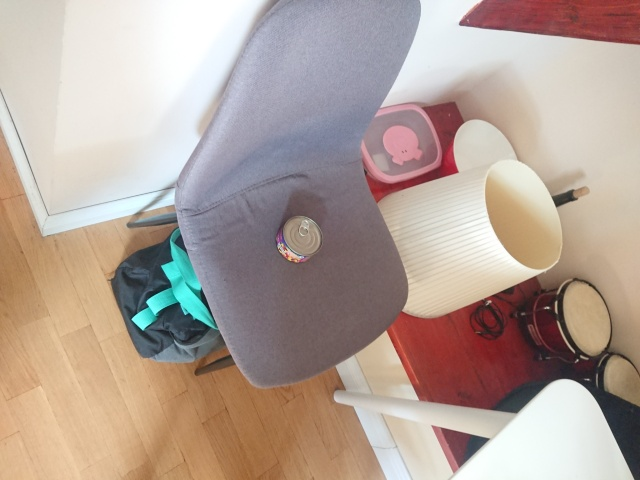Giana Tuna Salad Mexico 185g: (274, 214, 324, 265)
